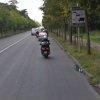Motorcycle: (36, 35, 62, 59)
